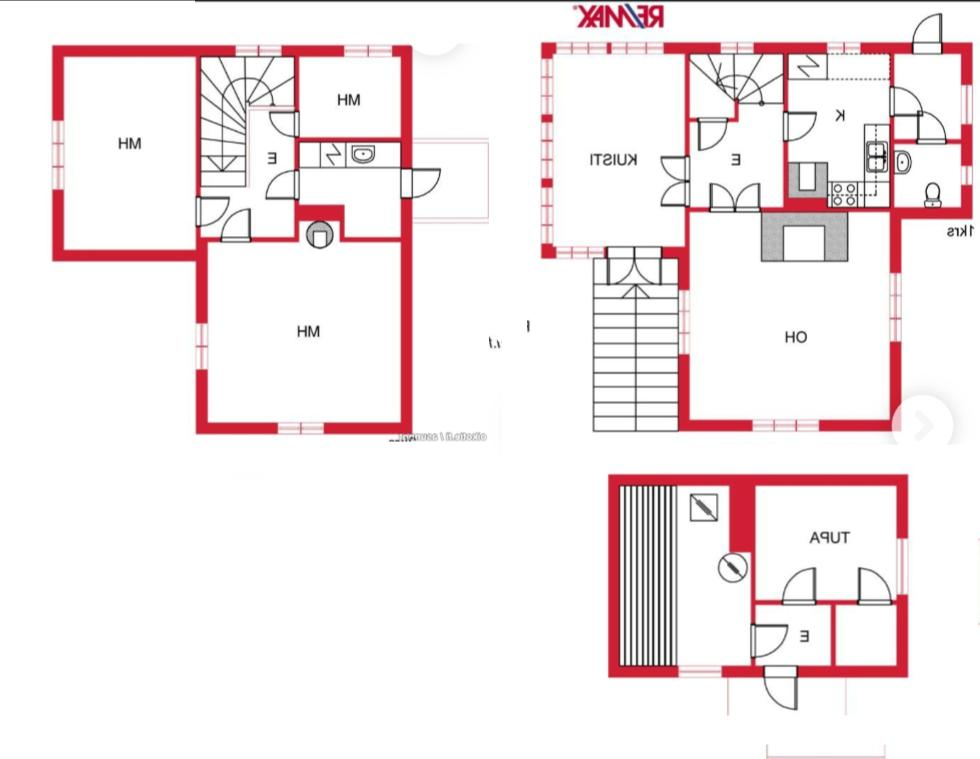bathroom: (893, 142, 965, 209)
door: (762, 660, 800, 714), (775, 563, 819, 608), (749, 621, 791, 663), (854, 565, 896, 607), (909, 11, 947, 57), (775, 107, 819, 146), (262, 165, 303, 205), (603, 241, 637, 286), (400, 164, 442, 200), (884, 82, 923, 120), (194, 192, 234, 229), (695, 114, 732, 152), (220, 206, 254, 246), (634, 243, 666, 285), (656, 152, 695, 184), (268, 108, 304, 142), (916, 108, 948, 146), (656, 178, 691, 210), (733, 180, 764, 216), (707, 182, 738, 215)
perimeter: (52, 41, 415, 440), (675, 38, 974, 435), (606, 472, 914, 681)
stairs: (592, 258, 679, 432), (198, 52, 247, 188), (202, 55, 294, 111)
window: (46, 108, 71, 198), (884, 262, 907, 348), (741, 415, 827, 437), (536, 178, 558, 250), (663, 661, 730, 684), (268, 417, 332, 441), (192, 314, 214, 379), (894, 532, 914, 601), (606, 38, 672, 58), (538, 115, 556, 187), (338, 39, 402, 59), (550, 36, 614, 56), (230, 39, 290, 60), (817, 35, 867, 60), (677, 284, 693, 361), (538, 50, 554, 122), (956, 78, 978, 130), (716, 38, 761, 57), (552, 242, 610, 254), (958, 156, 976, 194)
